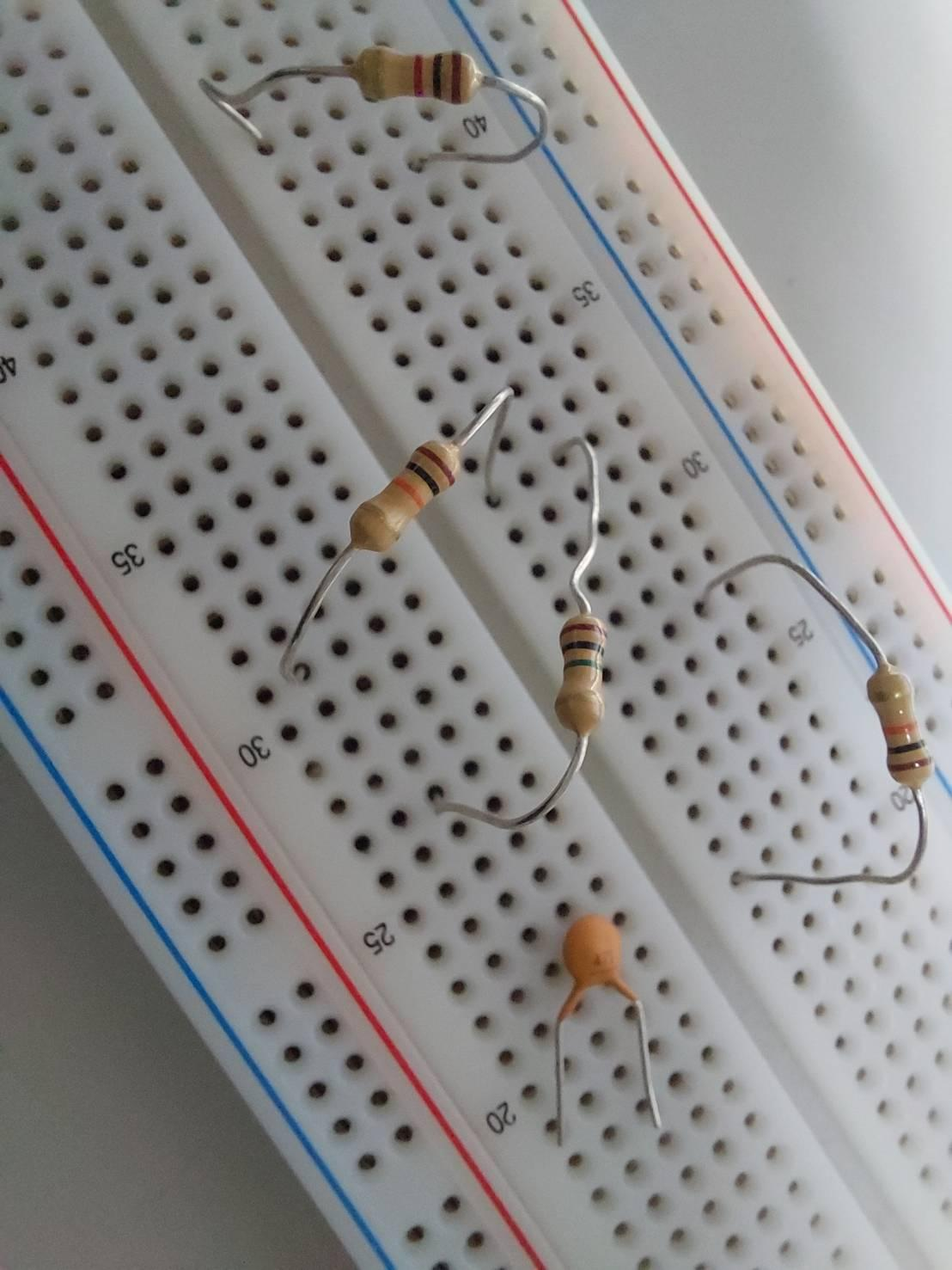resistor: (358, 426, 473, 563), (854, 668, 945, 791), (538, 617, 624, 735), (349, 37, 485, 106)
